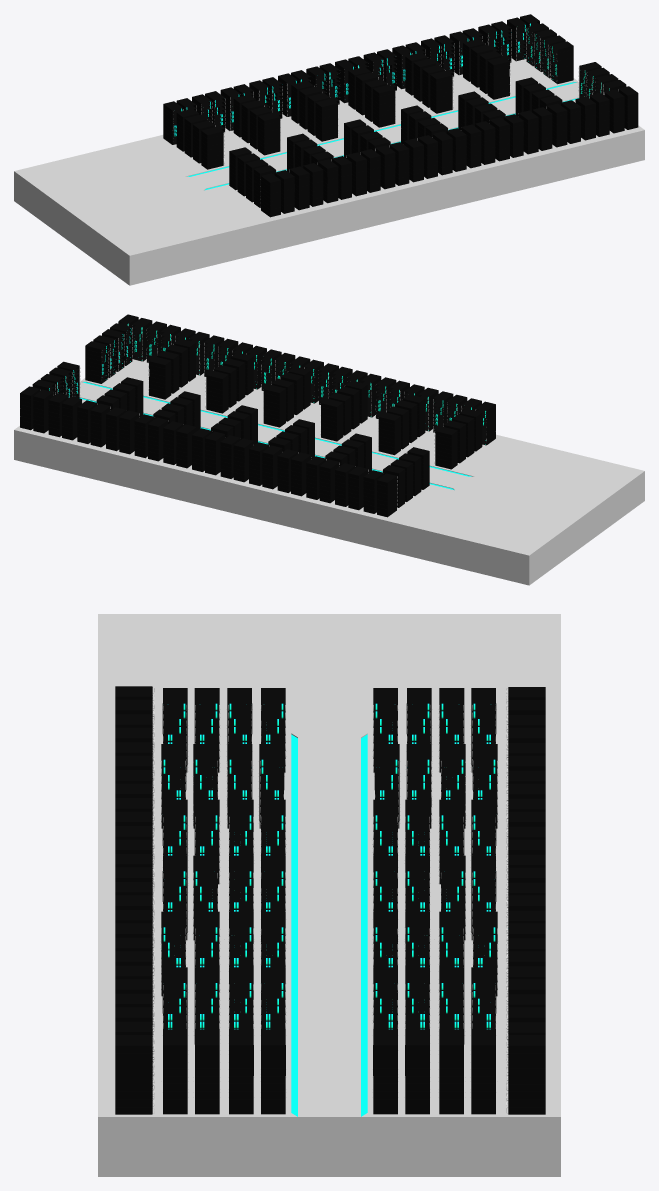
The model's file is Level5.glb.
The picture shows the model from 3 angles, top to bottom: view 1: azimuth 30°, elevation 25°; view 2: azimuth 150°, elevation 25°; view 3: azimuth 270°, elevation 25°; orthographic projection. The views are drawn at different scales.
Visible parts, largest first — view 1: Floor, Box041_Black Metal Plate_0.002, Box041_Black Metal Plate_0.001, Box041_Black Metal Plate_0.003, Box041_Black Metal Plate_0.007, Box041_Black Metal Plate_0.009, Box041_Black Metal Plate_0.008, Box041_Black Metal Plate_0.006, Box041_Black Metal Plate_0.004, Box041_Black Metal Plate_0.005; view 2: Floor, Box041_Black Metal Plate_0.001, Box041_Black Metal Plate_0.002, Box041_Black Metal Plate_0.003, Box041_Black Metal Plate_0.007, Box041_Black Metal Plate_0.009, Box041_Black Metal Plate_0.008, Box041_Black Metal Plate_0.006, Box041_Black Metal Plate_0.004, Box041_Black Metal Plate_0.005; view 3: Floor, Box041_Black Metal Plate_0.009, Box041_Black Metal Plate_0.002, Box041_Black Metal Plate_0.001, Box041_Black Metal Plate_0.008, Box041_Black Metal Plate_0.004, Box041_Black Metal Plate_0.003, Box041_Black Metal Plate_0.005, Box041_Black Metal Plate_0.006, Box041_Black Metal Plate_0.007.
Part boxes in pixels (x1,y1,x2,y2): Floor: (14, 58, 644, 285); Box041_Black Metal Plate_0.002: (261, 86, 638, 217); Box041_Black Metal Plate_0.001: (163, 14, 539, 144); Box041_Black Metal Plate_0.003: (176, 109, 276, 207); Box041_Black Metal Plate_0.007: (405, 52, 506, 130); Box041_Black Metal Plate_0.009: (526, 23, 626, 98); Box041_Black Metal Plate_0.008: (463, 39, 562, 116); Box041_Black Metal Plate_0.006: (348, 67, 448, 144); Box041_Black Metal Plate_0.004: (233, 94, 334, 172); Box041_Black Metal Plate_0.005: (291, 81, 390, 158); Floor: (14, 359, 644, 585); Box041_Black Metal Plate_0.001: (20, 386, 397, 517); Box041_Black Metal Plate_0.002: (118, 314, 495, 445); Box041_Black Metal Plate_0.003: (382, 408, 482, 507); Box041_Black Metal Plate_0.007: (152, 352, 253, 430); Box041_Black Metal Plate_0.009: (32, 323, 132, 398); Box041_Black Metal Plate_0.008: (96, 339, 195, 417); Box041_Black Metal Plate_0.006: (210, 366, 310, 444); Box041_Black Metal Plate_0.004: (324, 394, 425, 472); Box041_Black Metal Plate_0.005: (268, 380, 367, 459); Floor: (98, 614, 560, 1176); Box041_Black Metal Plate_0.009: (163, 1029, 495, 1114); Box041_Black Metal Plate_0.002: (115, 686, 154, 1114); Box041_Black Metal Plate_0.001: (506, 687, 545, 1114); Box041_Black Metal Plate_0.008: (162, 967, 496, 1044); Box041_Black Metal Plate_0.004: (161, 744, 497, 828); Box041_Black Metal Plate_0.003: (162, 688, 496, 772); Box041_Black Metal Plate_0.005: (162, 799, 496, 884); Box041_Black Metal Plate_0.006: (162, 855, 496, 940); Box041_Black Metal Plate_0.007: (161, 911, 497, 996).
Bounding box in the file's own units: 18 × 2.15 × 7.
